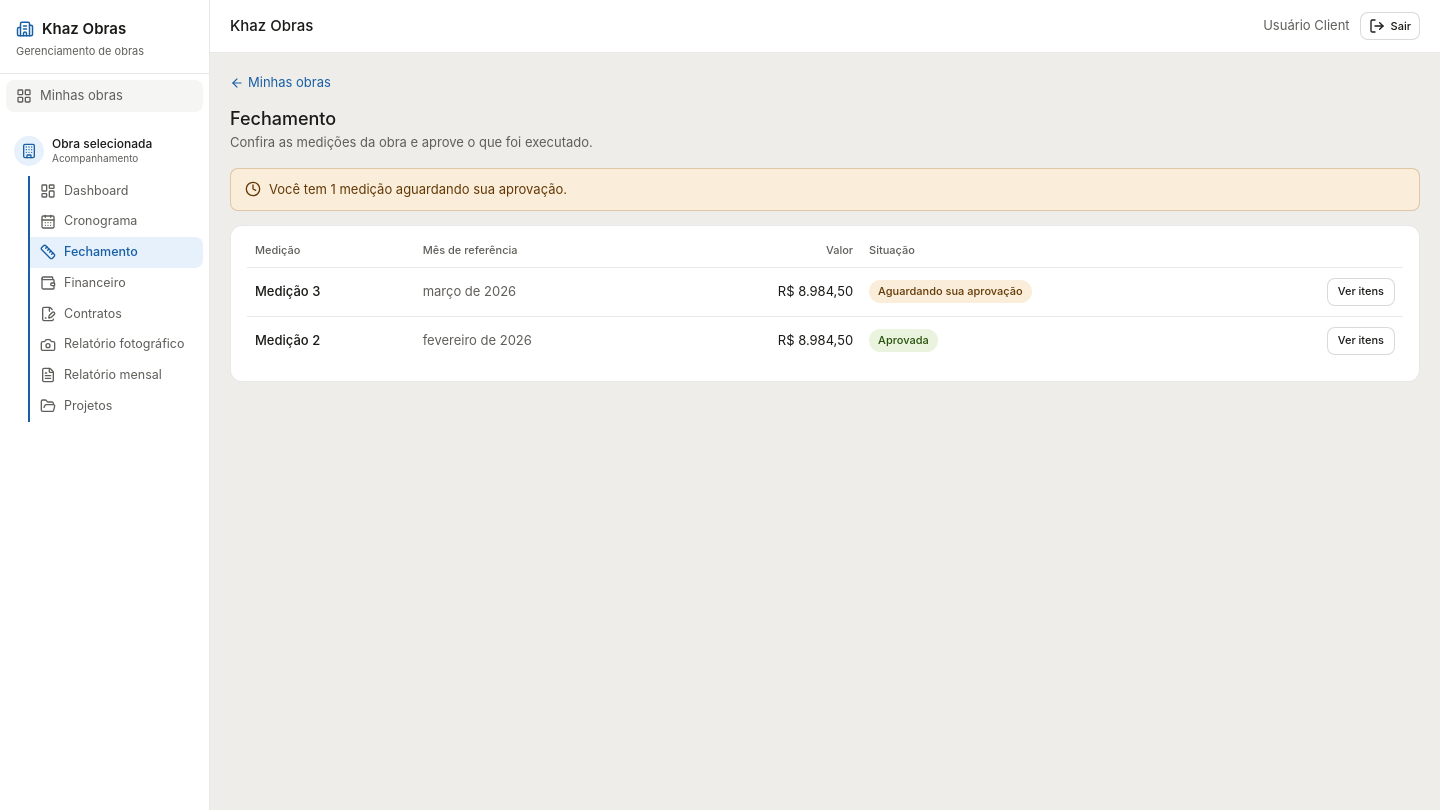
Scenario: Fechamento - lista (cliente) › avisa quando há medição aguardando aprovação e abre o detalhe pelo link
expect the text "Você tem 1 medição aguardando sua aprovação." is shown: met, box 269,181 -> 567,197
Click the link with aria-label "Ver itens da medição 3" at (1361, 292), box 1327,278 -> 1395,306
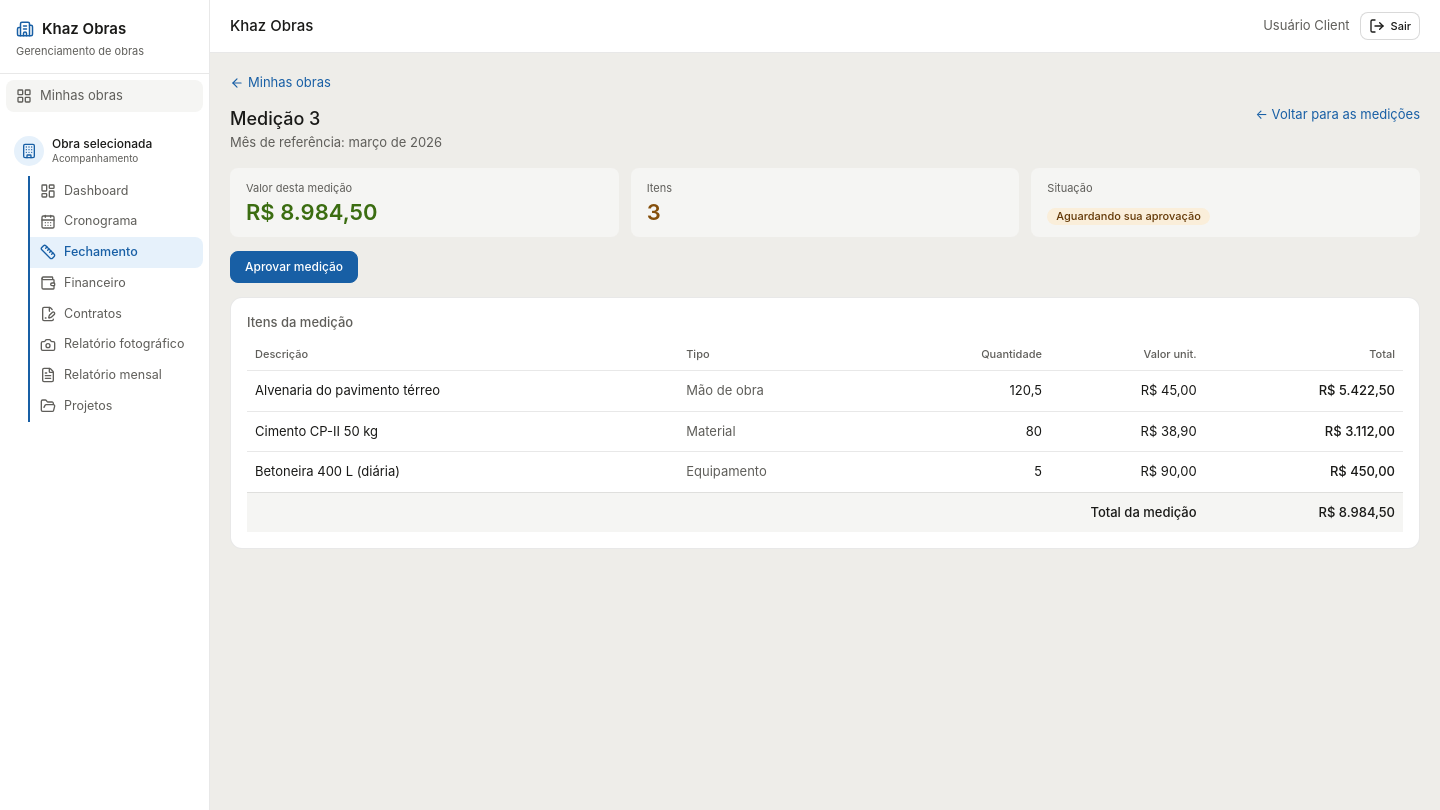
expect the heading "Medição 3" is shown: met, box 230,108 -> 320,128
expect the text "Alvenaria do pavimento térreo" is shown: met, box 247,371 -> 678,411
